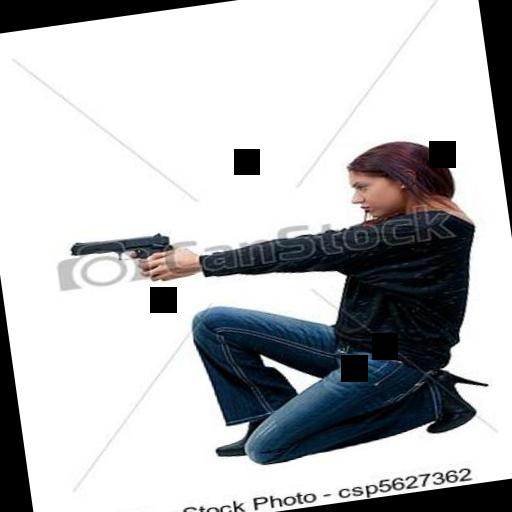Handgun: (67, 226, 176, 292)
